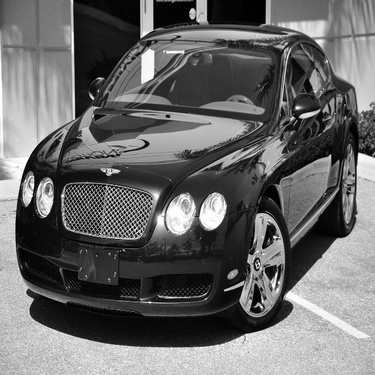car: (1, 17, 364, 328)
